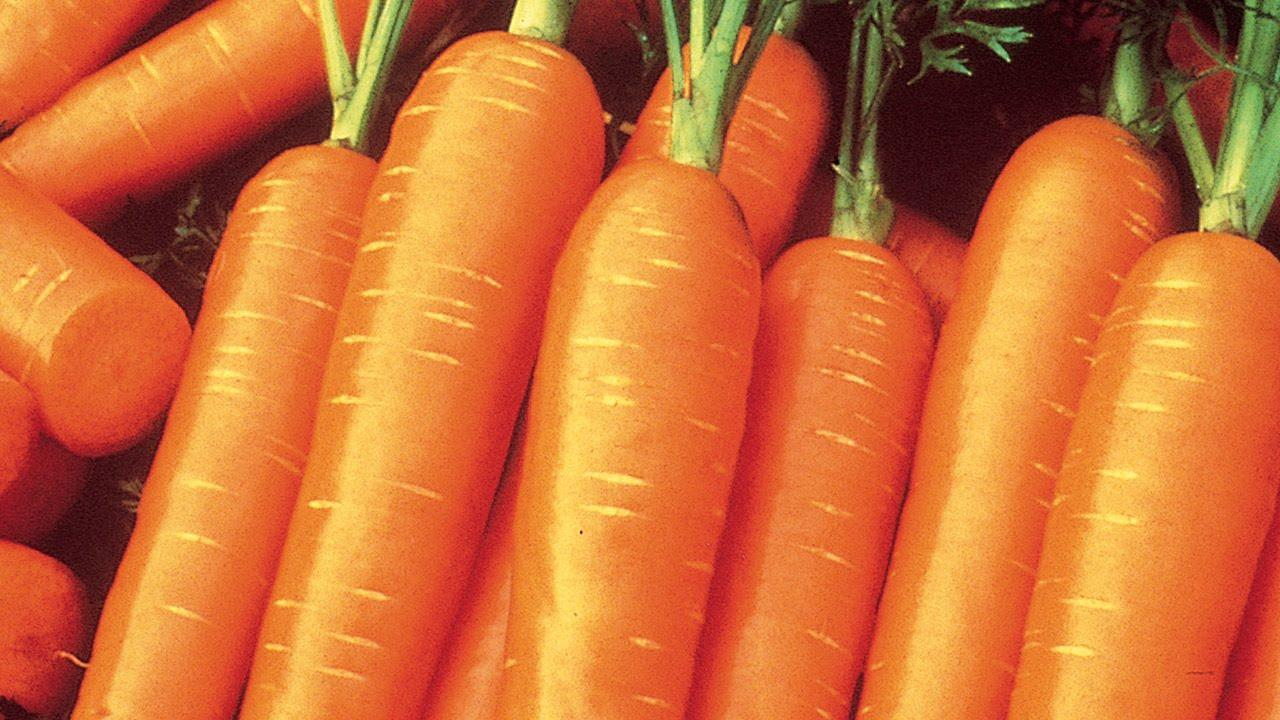carrot: (236, 28, 607, 718), (854, 112, 1184, 718), (494, 6, 767, 717), (68, 139, 379, 718), (1006, 229, 1279, 718), (689, 234, 935, 718), (0, 0, 370, 224), (0, 163, 192, 457), (617, 24, 830, 266), (0, 0, 168, 132), (0, 538, 91, 718), (1218, 511, 1279, 719)
